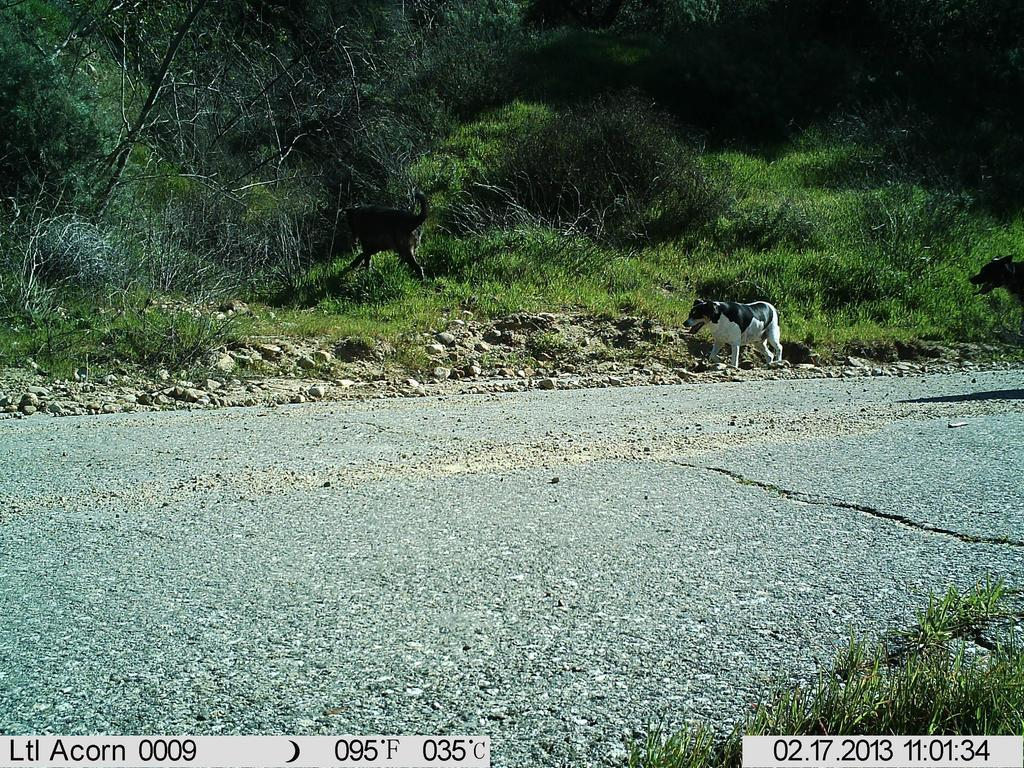dog: (638, 257, 831, 419)
